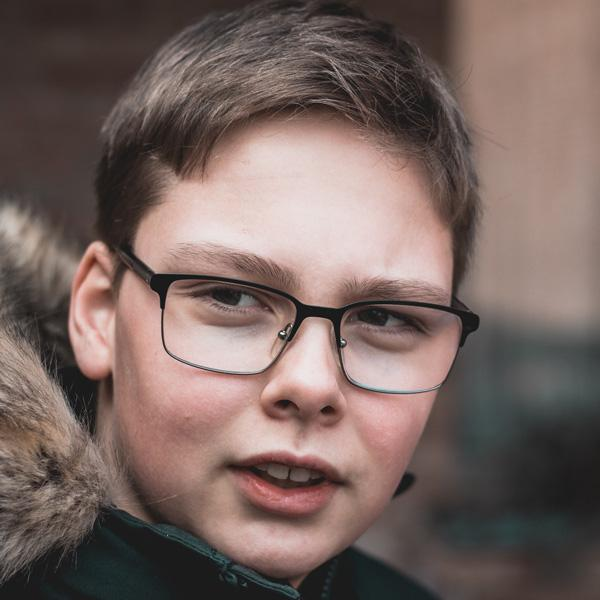Eyes: (181, 272, 278, 325), (341, 294, 426, 344)
